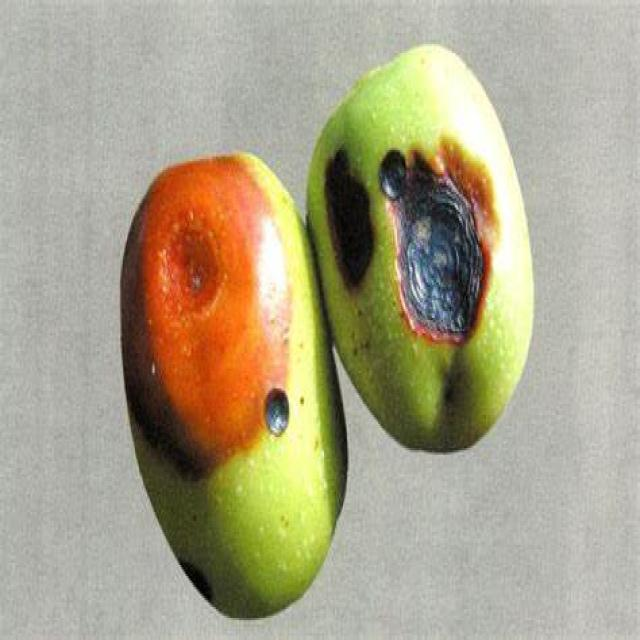Olive Fruit Fly: (122, 154, 344, 618), (308, 46, 533, 450)
